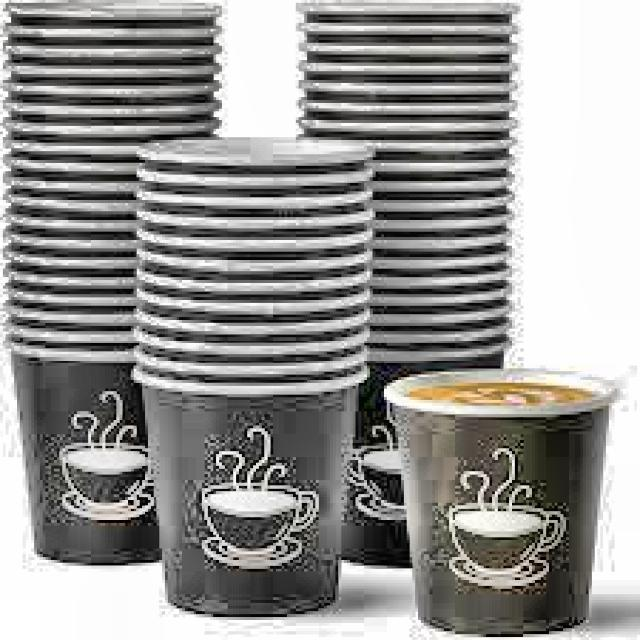Cup: (290, 0, 529, 577), (0, 0, 216, 574), (128, 132, 380, 618), (387, 362, 626, 635)
